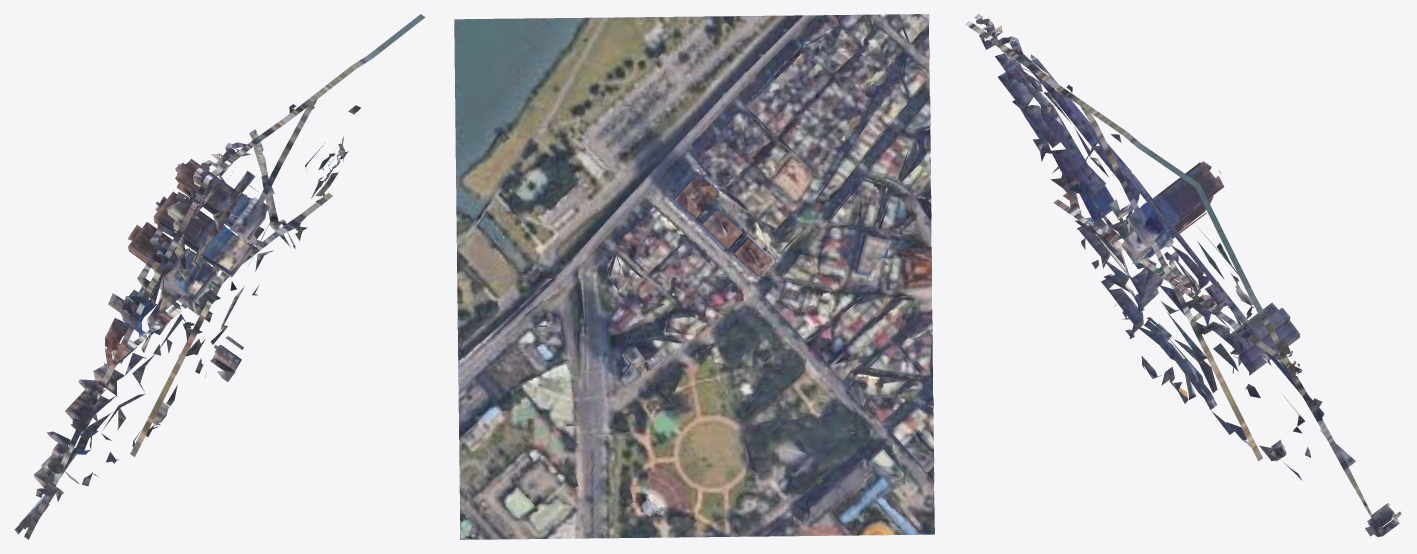
3 renders of one model, left to right at view 1: azimuth 30°, elevation 25°; view 2: azimuth 150°, elevation 25°; view 3: azimuth 270°, elevation 25°, orthographic. The views are drawn at different scales.
Size of the model in its own units: 620 by 563 by 544.
Materials: 2 (2 with a texture image).
